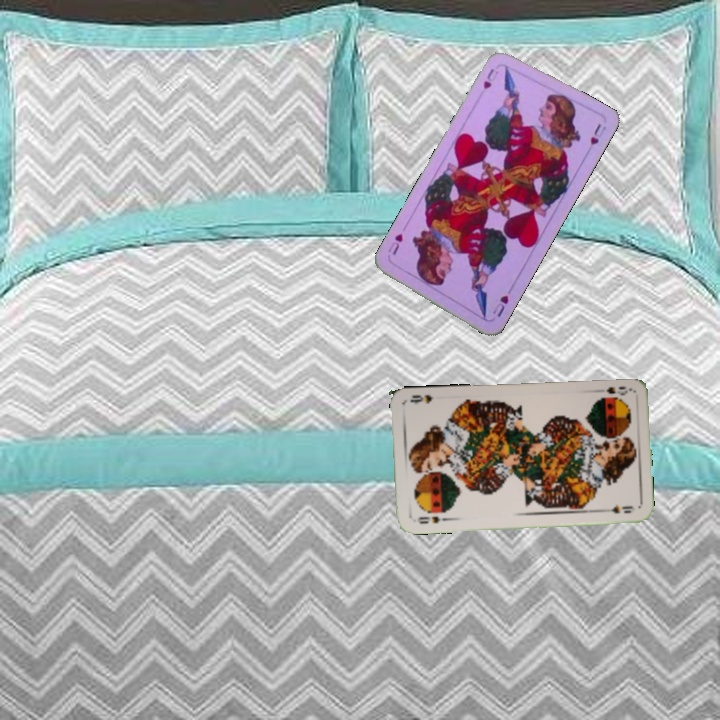HU: (488, 284, 515, 320), (479, 64, 501, 92)
SO: (413, 512, 450, 526), (602, 382, 633, 398)
